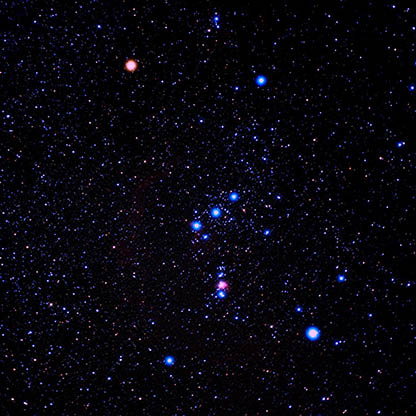Orion: (297, 318, 326, 347), (118, 51, 146, 79), (156, 349, 182, 377), (249, 68, 275, 94), (183, 207, 203, 239), (205, 198, 223, 230), (223, 183, 241, 212)
